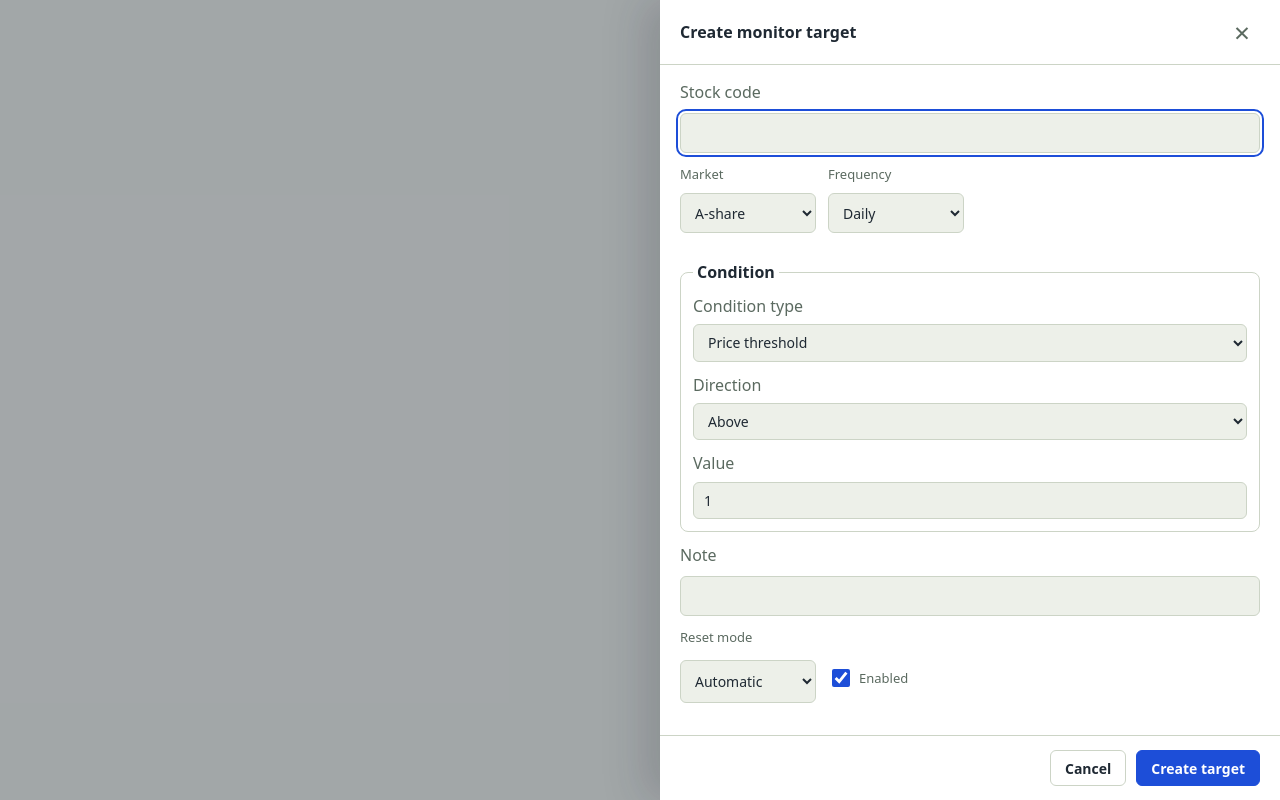
Test: MonitorTargetFormModal › shows field errors for an invalid stock code and numeric condition
The width and height of the screenshot is (1280, 800).
In the field labelled "Stock code": (970, 133) [680,113,1260,153], type "abc"
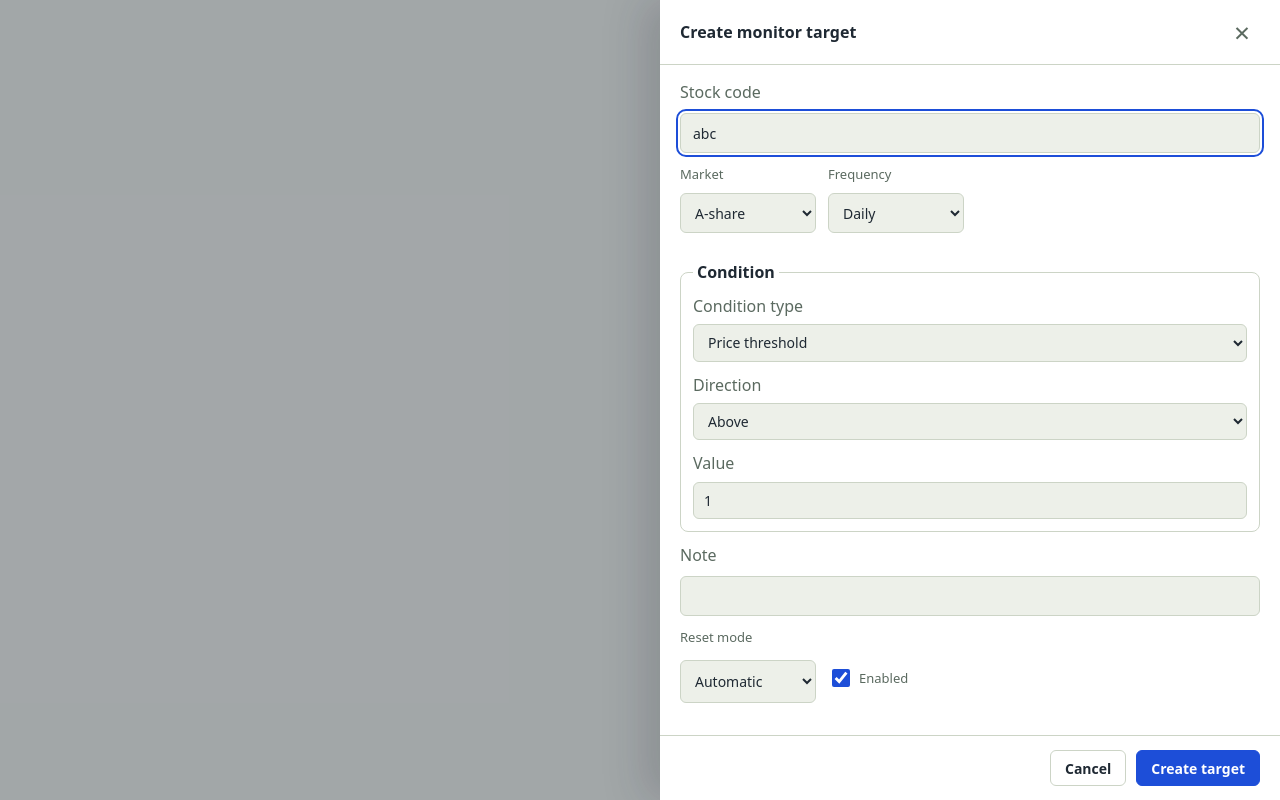
Clear the number field labelled "Value": (970, 500) [693,482,1247,519]
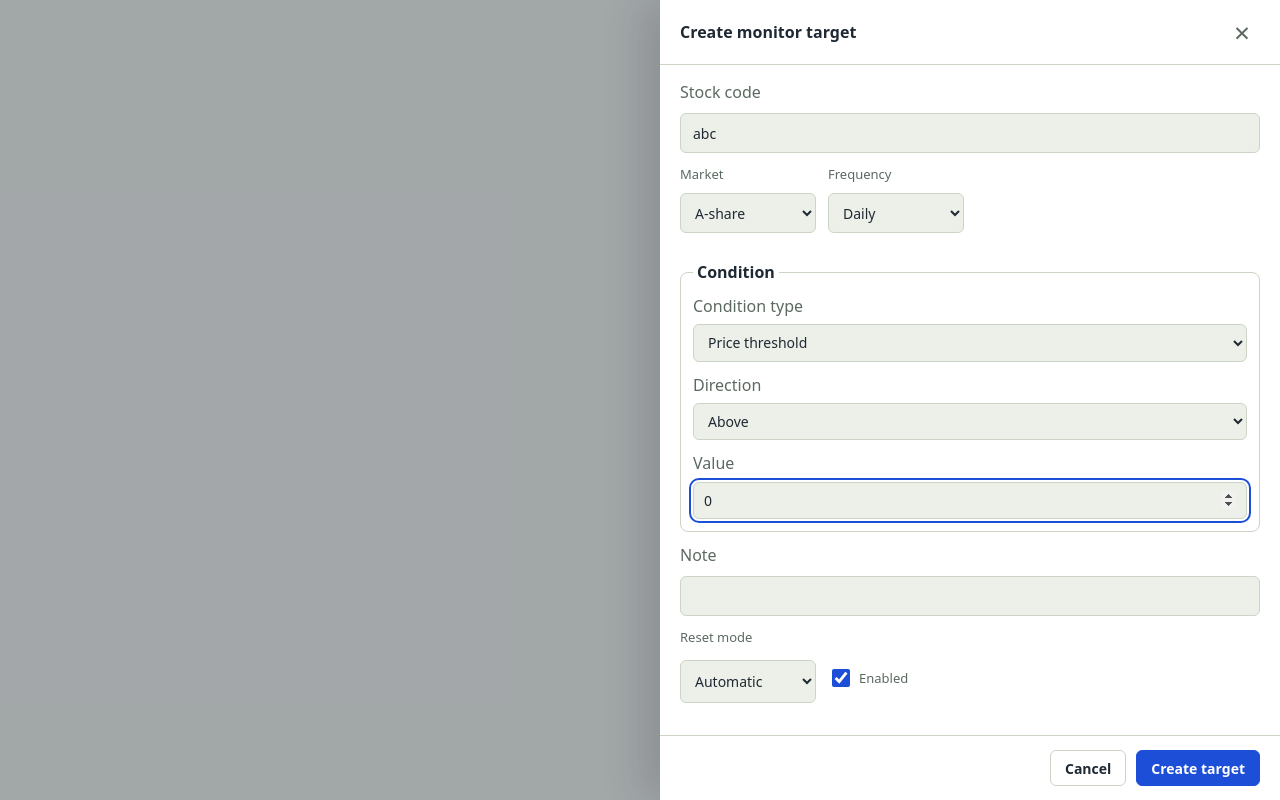
Click the button "Create target": click(1198, 768) [1136,750,1260,786]
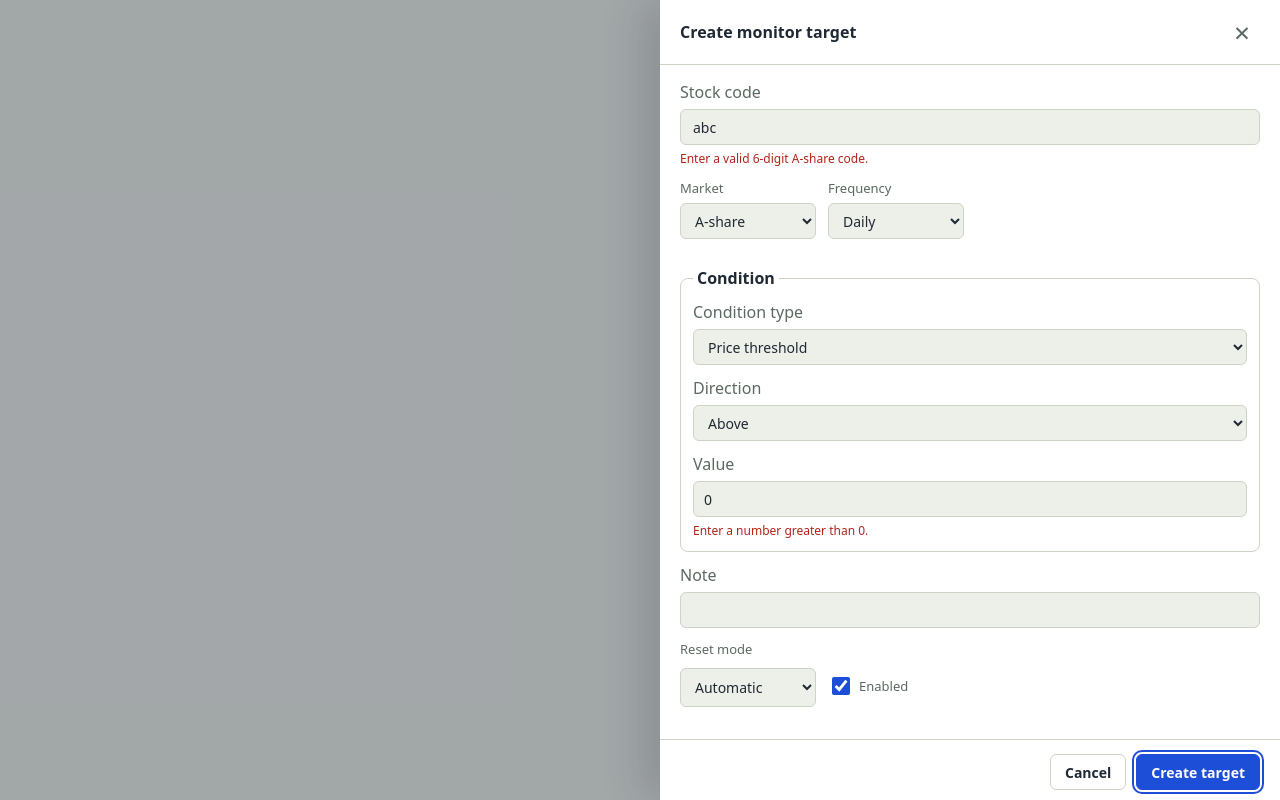
Result: the text "Enter a valid 6-digit A-share code." is shown at [680,150,868,167]
Result: the text "Enter a number greater than 0." is shown at [693,522,868,539]
